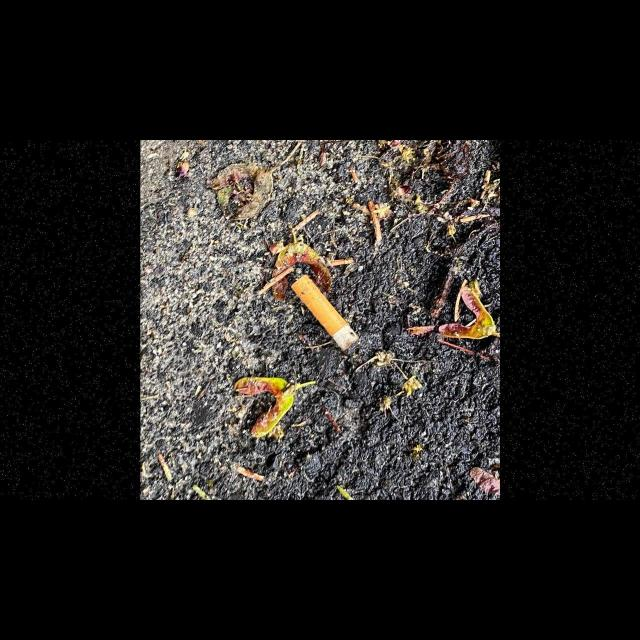cigarette: (288, 273, 360, 353)
